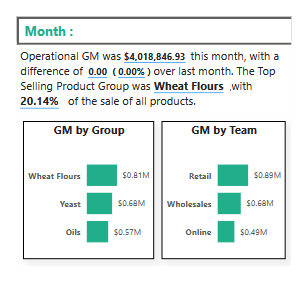

The dashboard page shown, as its layout file describes it:
{"tool":"powerbi","page":{"name":"GM TOOLTIP","canvas":[392,356],"ordinal":2},"visuals":[{"type":"actionButton","box":[0,0,400,40],"z":0},{"type":"textbox","box":[0,40,400,102],"z":1000},{"type":"clusteredBarChart","fields":{"Y":["REVENUE CALCULATIONS.GM"],"Category":["dProduct.Group"]},"box":[9,149,187,197],"z":2000},{"type":"clusteredBarChart","fields":{"Y":["REVENUE CALCULATIONS.GM"],"Category":["Revenue.Team"]},"box":[207,149,177,197],"z":3000}]}

Visuals, with their boxes in screenshot pixels (x1, y1, x2, y2), scaled from the page's 392x356 canvas onto the 308x282 screenshot:
actionButton: crop(0, 0, 307, 32)
textbox: crop(0, 32, 307, 112)
clusteredBarChart - REVENUE CALCULATIONS.GM x dProduct.Group: crop(7, 118, 154, 274)
clusteredBarChart - REVENUE CALCULATIONS.GM x Revenue.Team: crop(163, 118, 302, 274)
